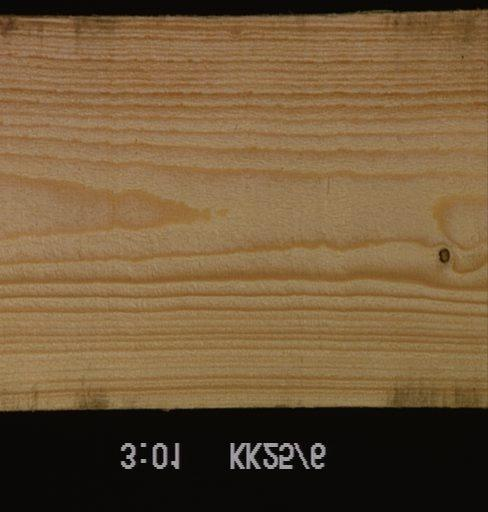dry_knot: (434, 244, 452, 267)
